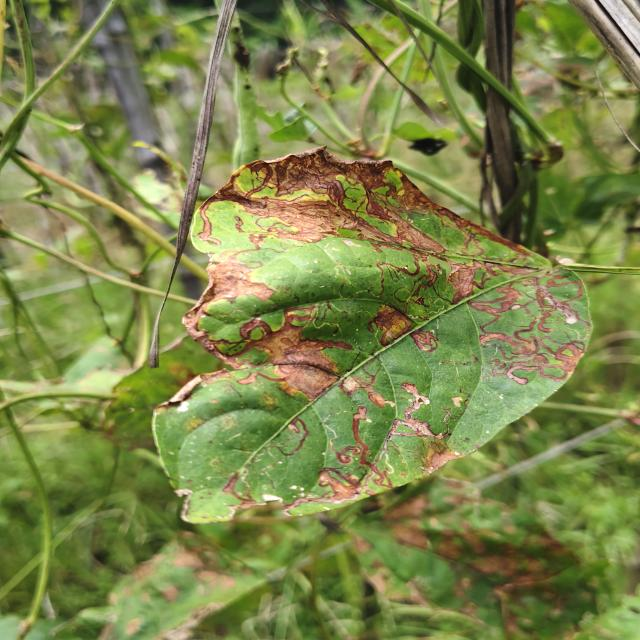leaf-moderate: (153, 146, 591, 522)
